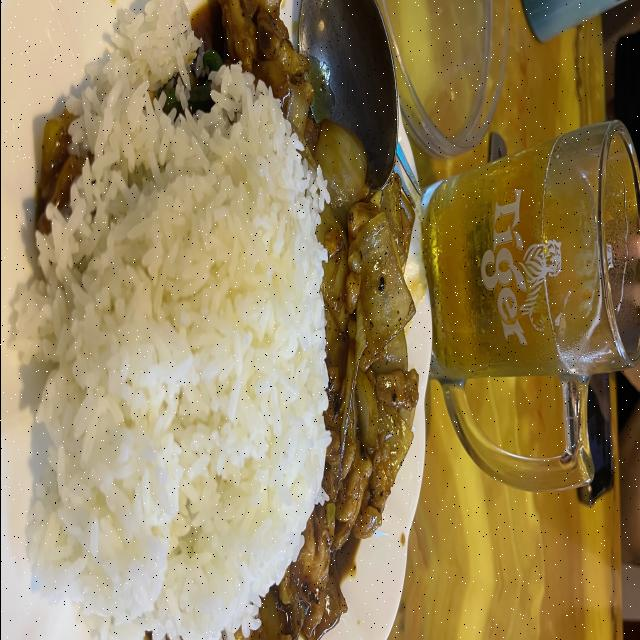Chicken: (220, 0, 418, 640)
Rice: (12, 2, 329, 640)
